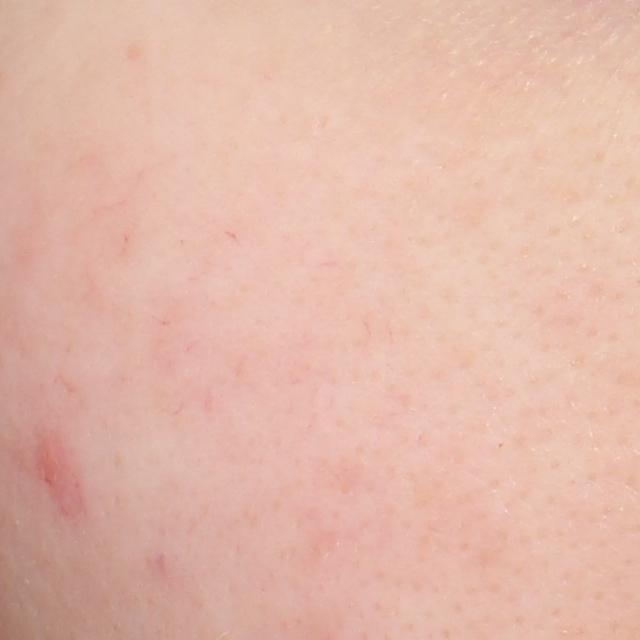papule: (34, 435, 71, 491)
